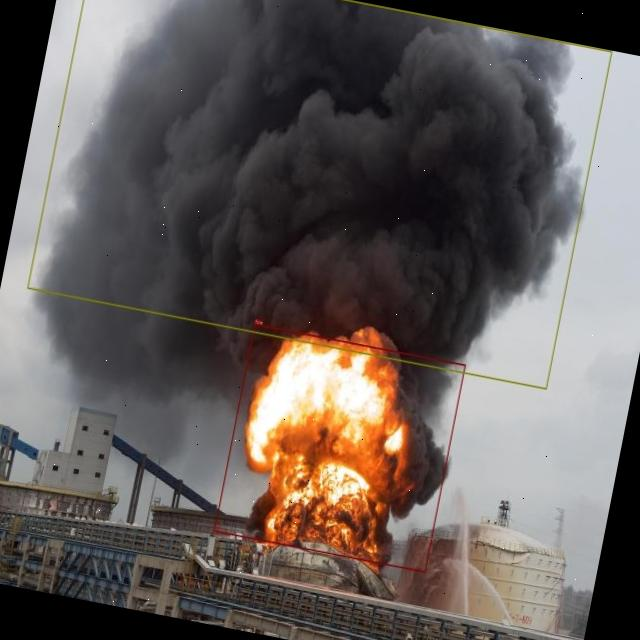fire: (214, 323, 466, 572)
smoke: (27, 0, 612, 390)
